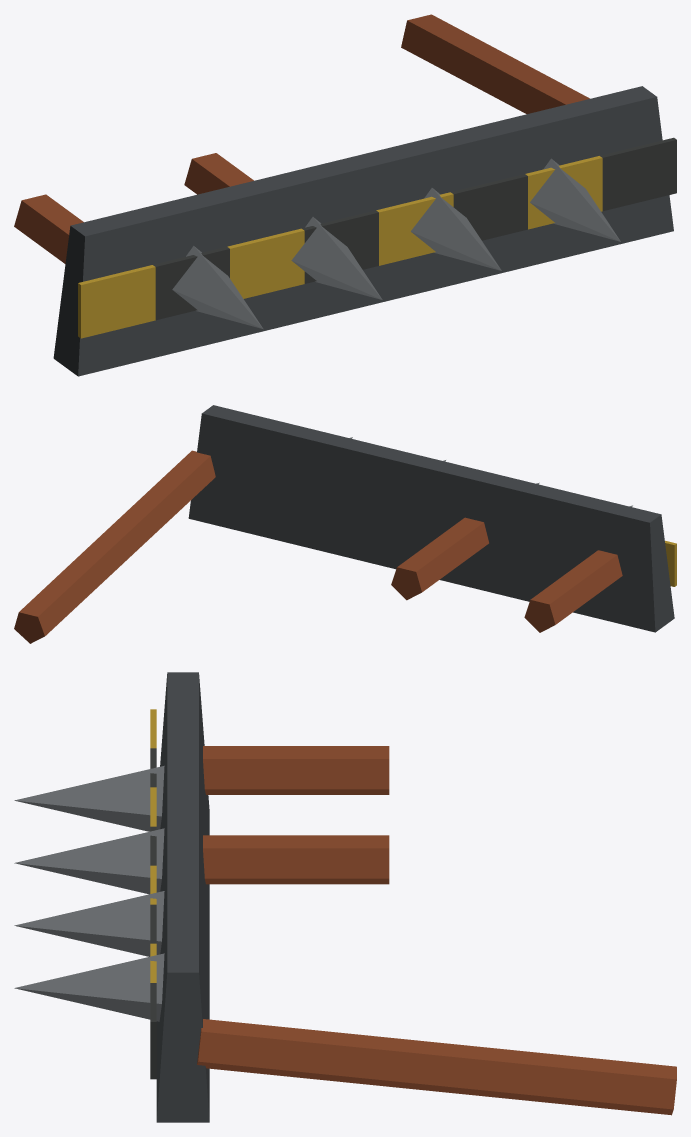
The model's file is upg_ram_t2.glb.
The picture shows the model from 3 angles, top to bottom: view 1: azimuth 30°, elevation 25°; view 2: azimuth 150°, elevation 25°; view 3: azimuth 270°, elevation 25°; orthographic projection. The views are drawn at different scales.
Parts seen in each view (by area): view 1: ram; view 2: ram; view 3: ram.
Boxes of the visible parts, box(x1,y1,x2,y2) form: ram: box(14, 14, 676, 376); ram: box(14, 405, 676, 643); ram: box(14, 672, 676, 1122).
Bounding box in the file's own units: 1.42 × 0.3 × 1.25.
